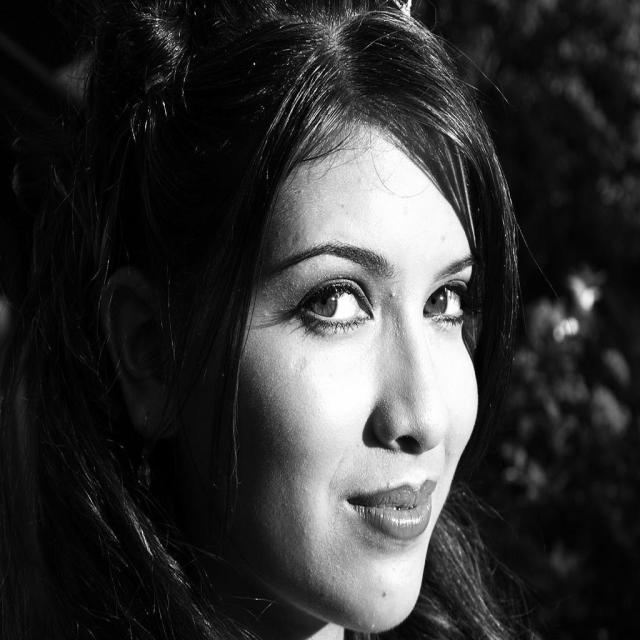no-glass: (291, 277, 475, 331)
